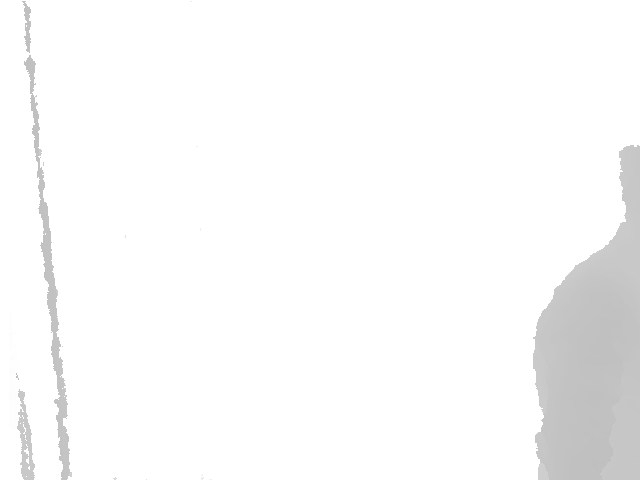person: (531, 145, 640, 480)
